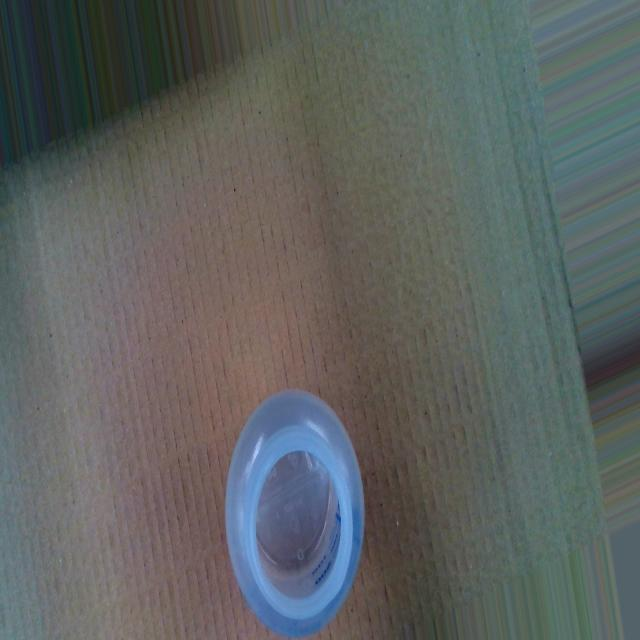bottle: (224, 390, 365, 640)
